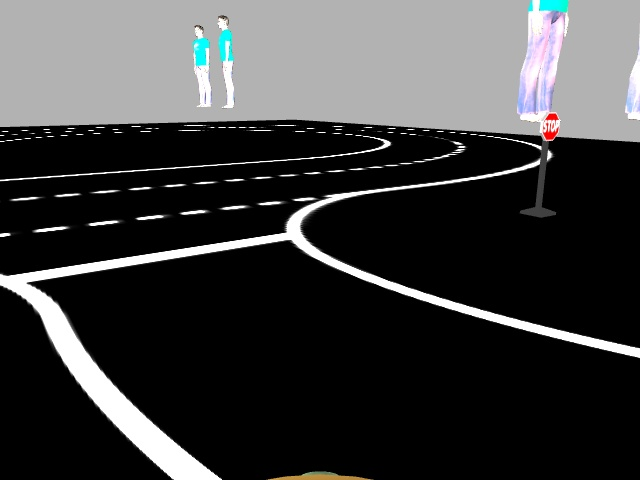Stop: (539, 112, 559, 141)
